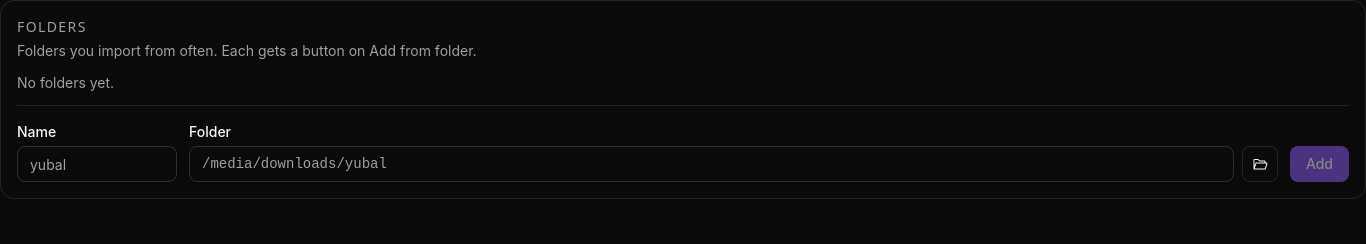
Test: FolderSourcesPanel: adding › the server's refusal shows in its words: That folder doesn’t exist.
Expected: the text "No folders yet." is shown, [17,74,114,91]
Type "x" into the field labelled "Name". click: [97, 164]
box: [17,146,177,182]
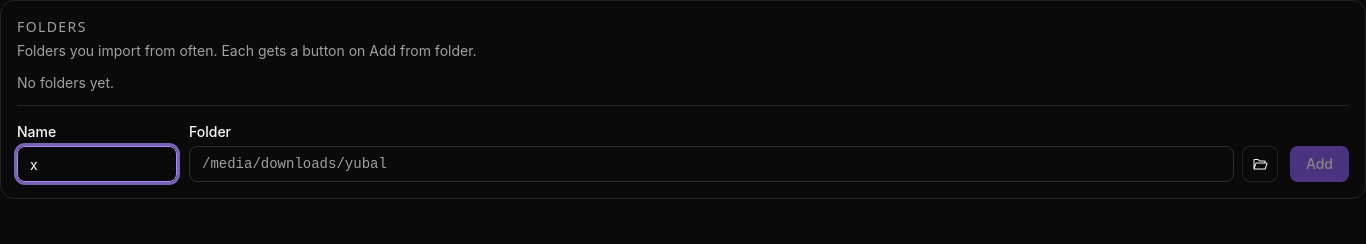
Type "/media/x" into the field labelled "Folder". click: [711, 164]
box: [189,146,1234,182]
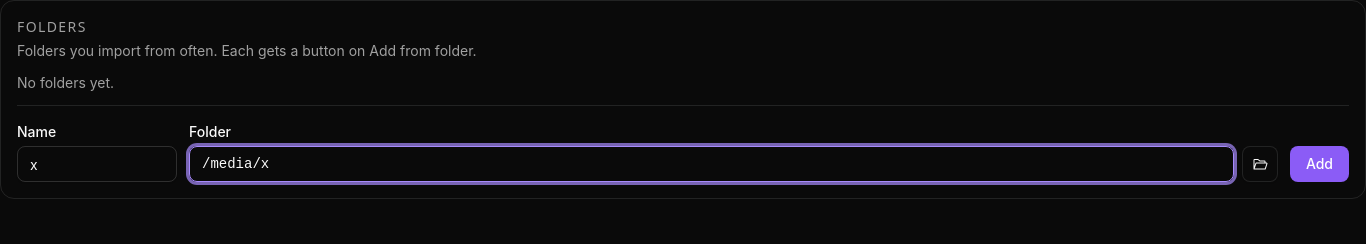
Click the button "Add". click: [1319, 164]
box: [1290,146,1349,182]
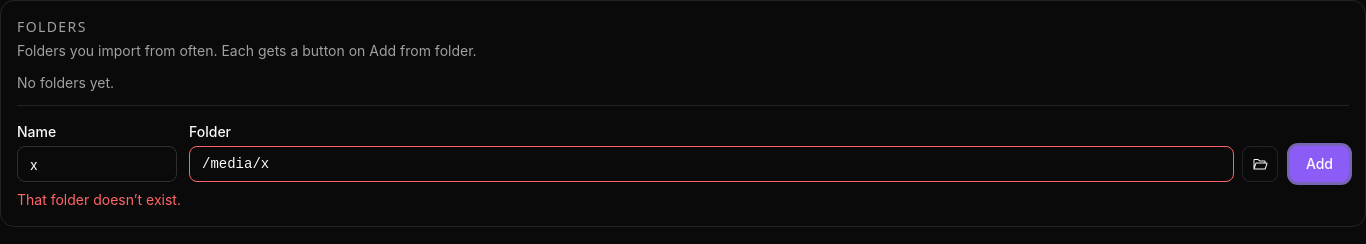
Result: the message reads "That folder doesn’t exist." at [17,191,181,208]
Note: Editing the field clears the stale refusal.
Type "y" into the field labelled "Folder". click: [711, 164]
box: [189,146,1234,182]
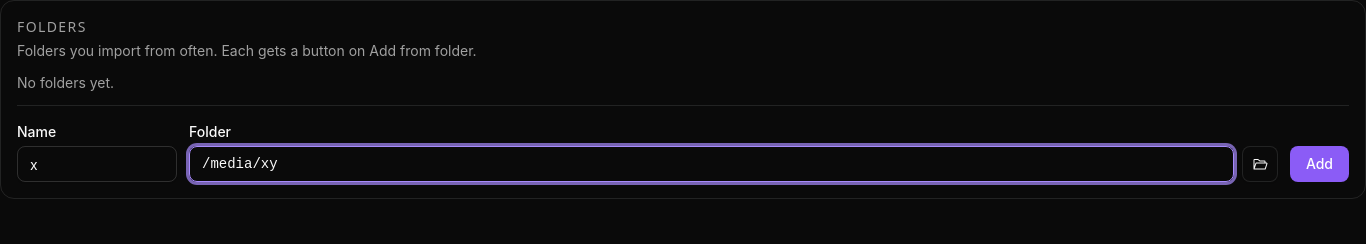
Result: the message "That folder doesn’t exist." is gone
